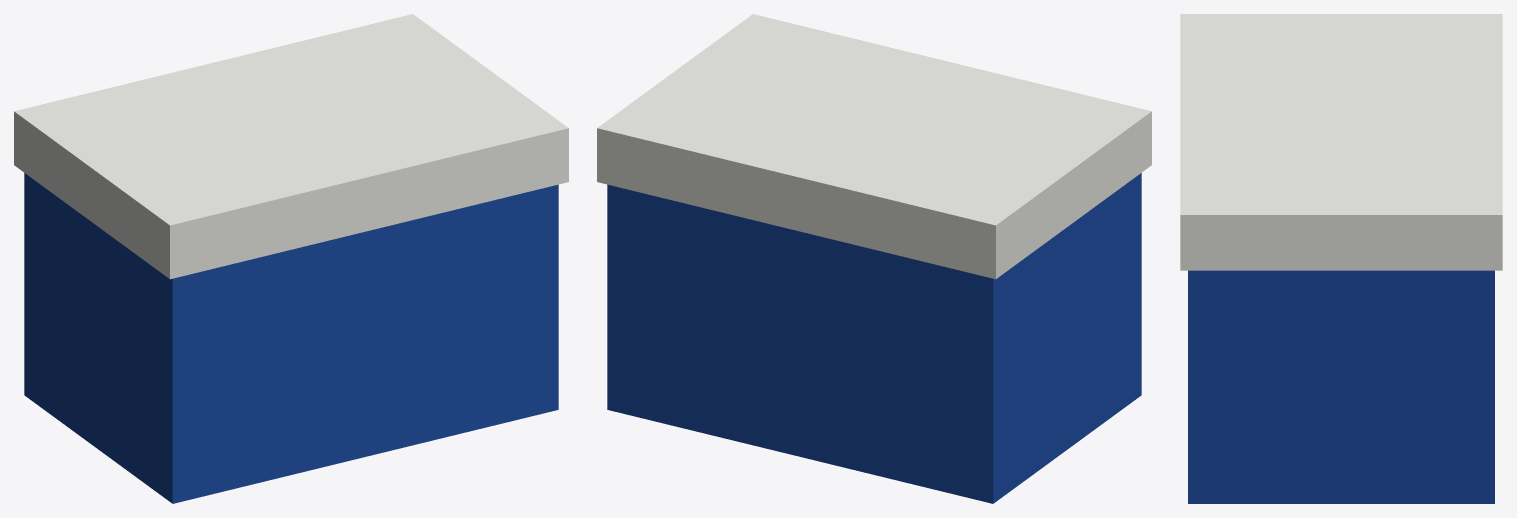
Rendered from cooler.dae.
3 renders of one model, left to right at view 1: azimuth 30°, elevation 25°; view 2: azimuth 150°, elevation 25°; view 3: azimuth 270°, elevation 25°, orthographic. The views are drawn at different scales.
Visible parts, largest first — view 1: marker; view 2: marker; view 3: marker.
Part boxes in pixels (x1,y1,x2,y2): marker: (14,14,568,503); marker: (597,14,1151,503); marker: (1180,14,1502,503).
Bounding box in the file's own units: 0.62 × 0.42 × 0.42.
1 material, 1 textured.
